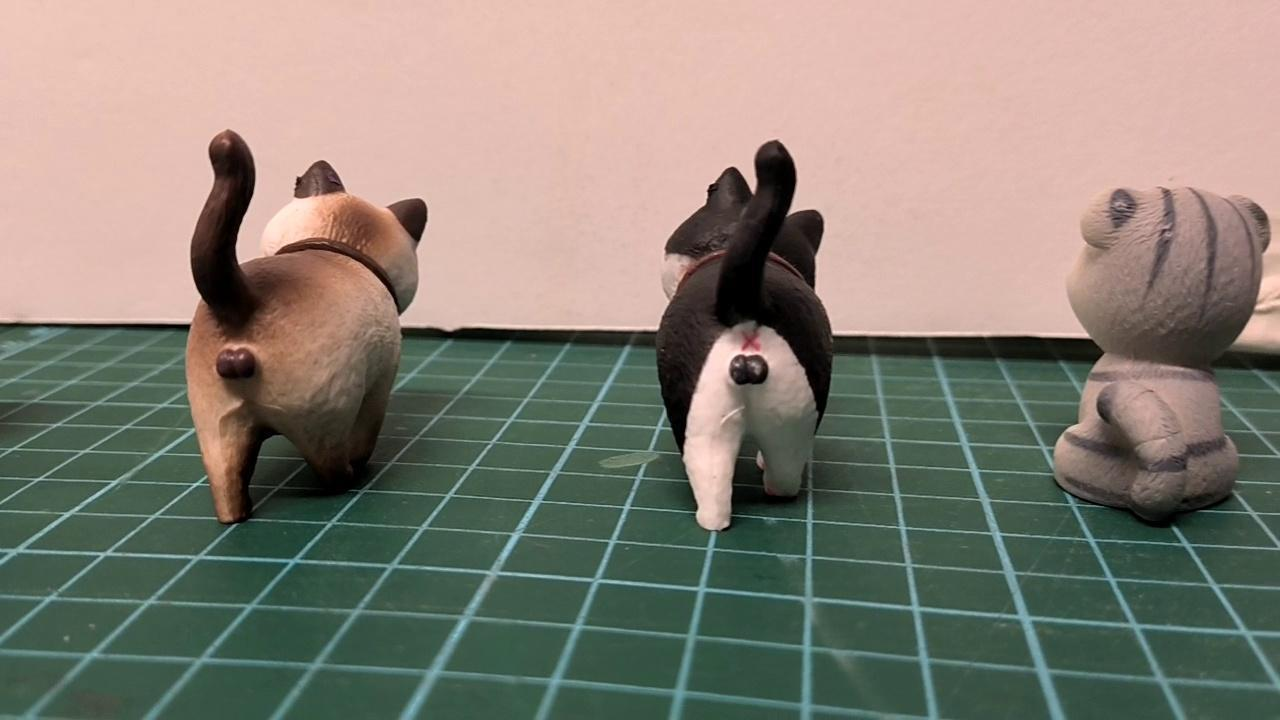pet: (179, 121, 431, 528), (1044, 172, 1280, 527), (649, 133, 840, 540)
